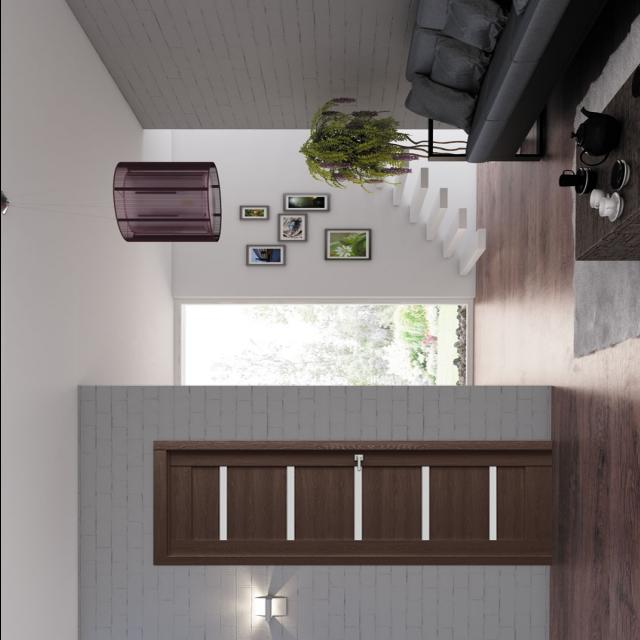close: (165, 447, 552, 570)
